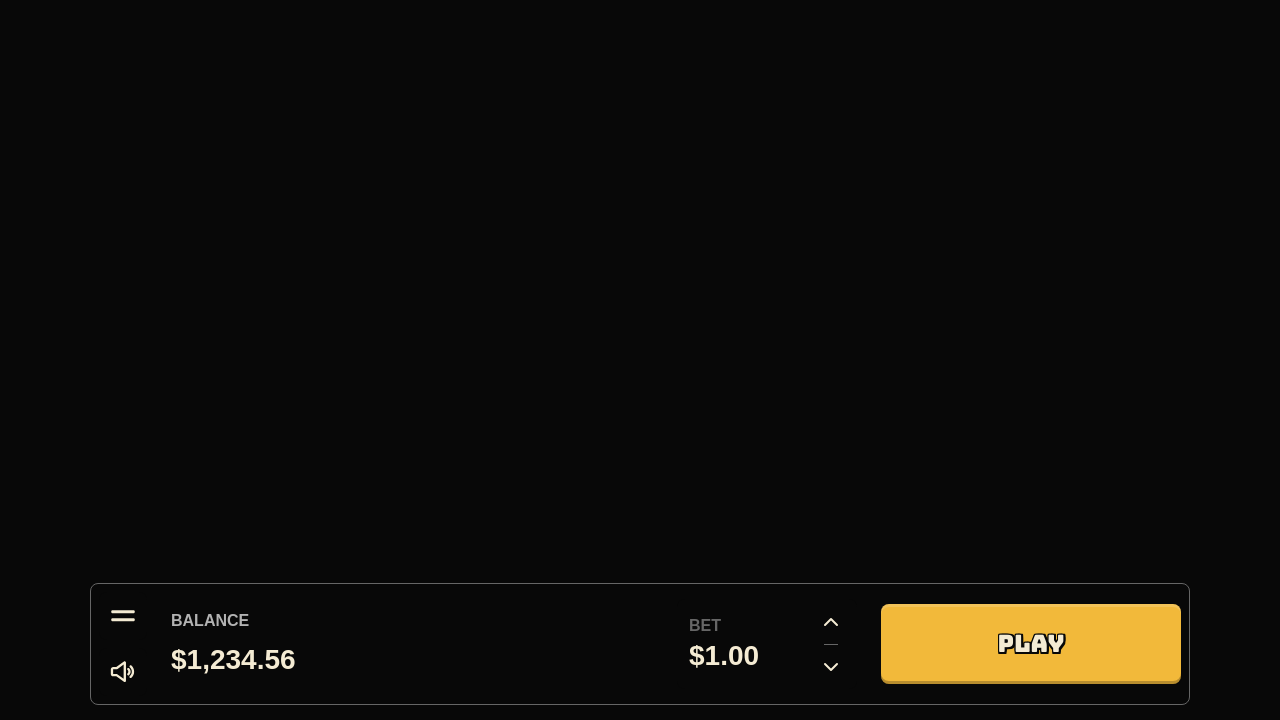
Scenario: UserInterface › an unreachable history leaves the screen working with an empty list
Click the button named "Menu": (123, 616) [99,592,147,640]
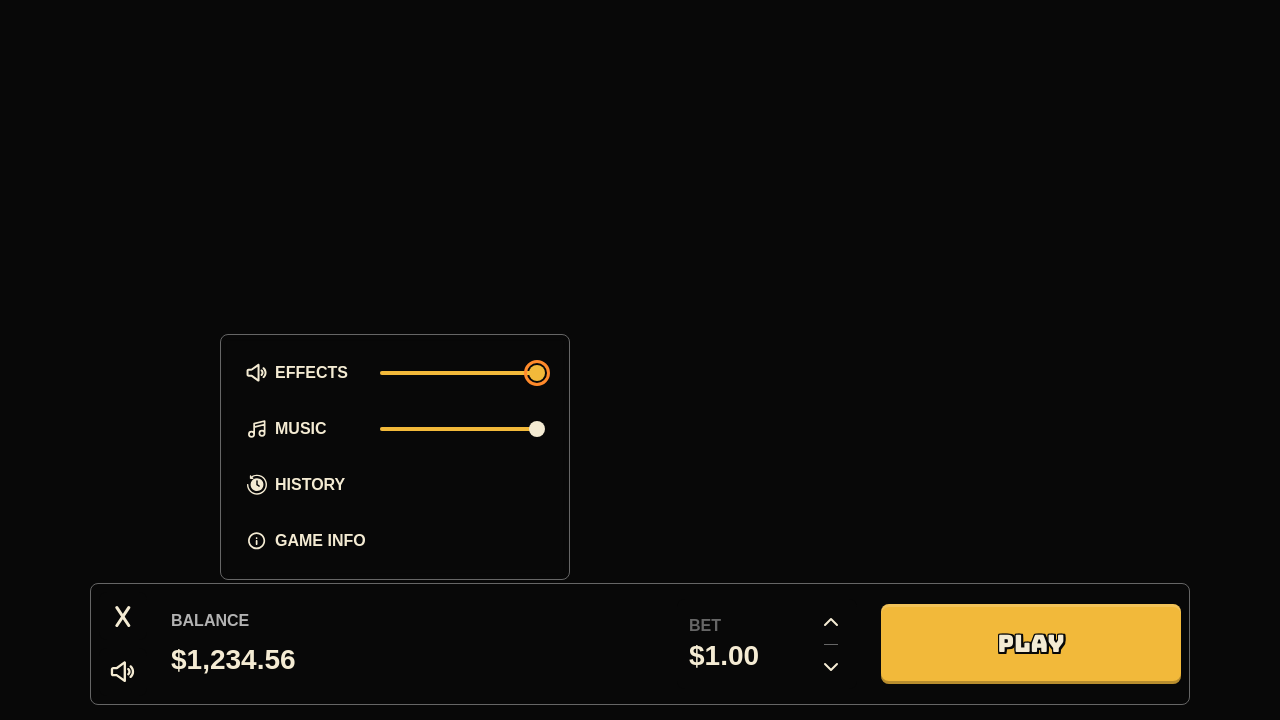
Click the button "History": (310, 484) [245,457,545,513]
(page scrolled)
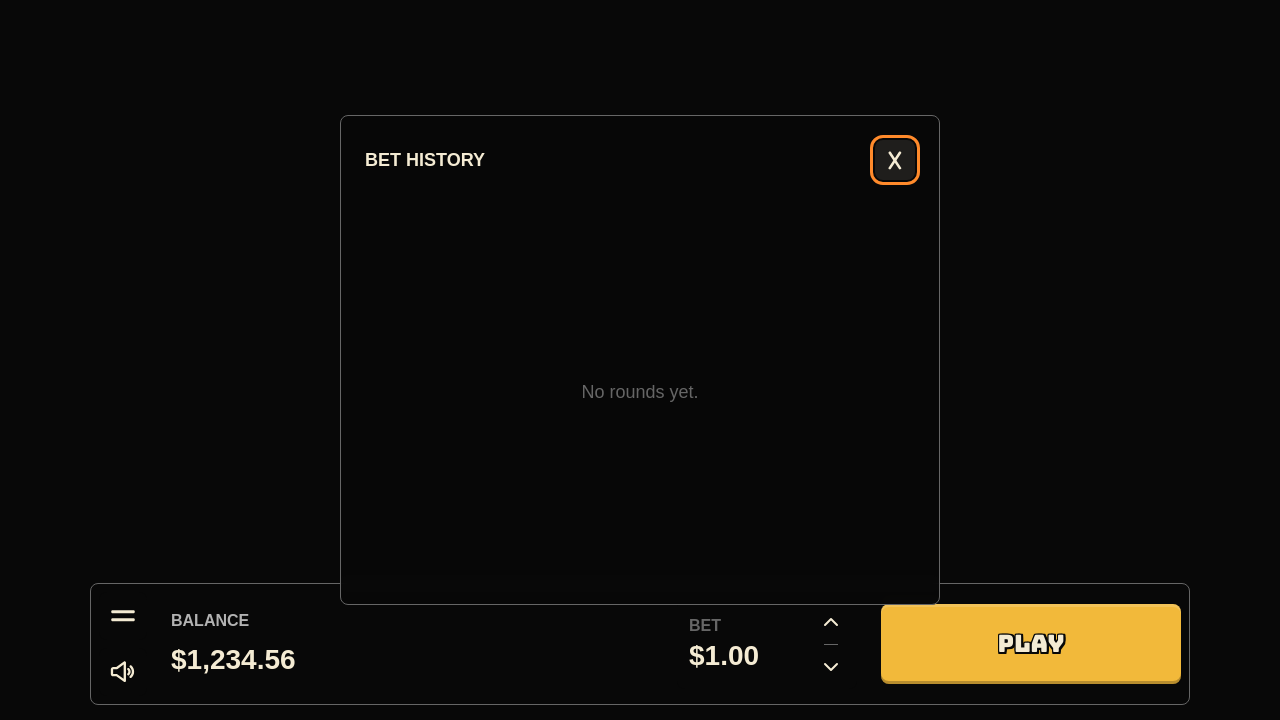
Expected: the text "No rounds yet." is shown, [582,382,699,402]
